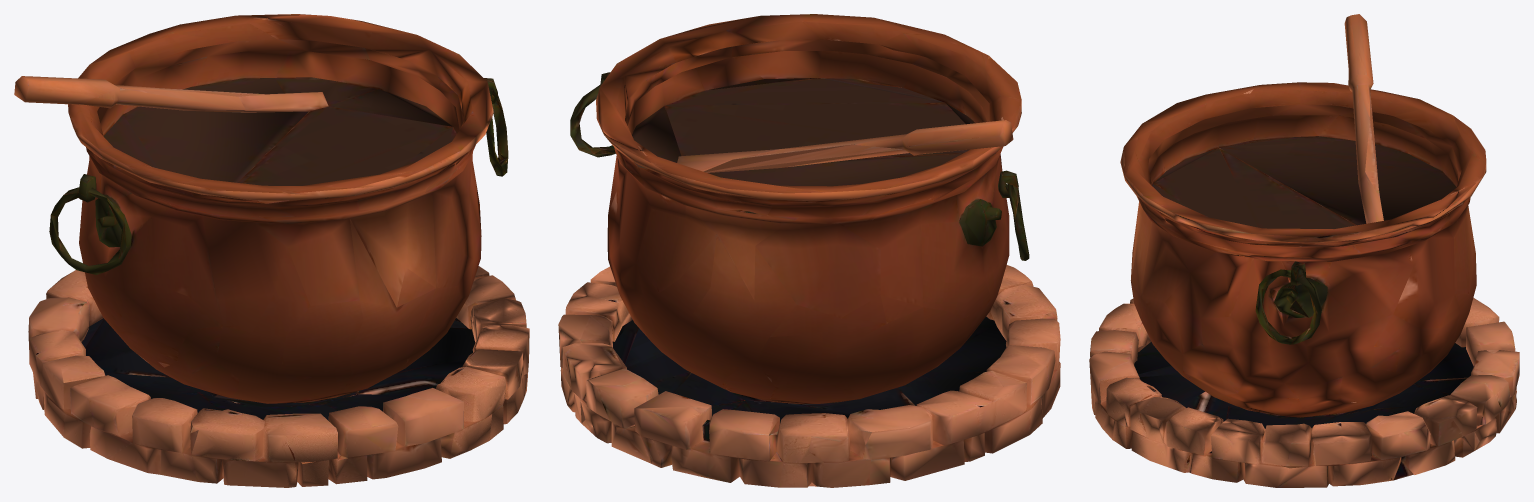
Rendered from la_degh.glb.
3 renders of one model, left to right at view 1: azimuth 30°, elevation 25°; view 2: azimuth 150°, elevation 25°; view 3: azimuth 270°, elevation 25°, orthographic. The views are drawn at different scales.
Visible parts, largest first — view 1: la_degh; view 2: la_degh; view 3: la_degh.
Boxes of the visible parts, box(x1,y1,x2,y2) form: la_degh: box(14, 14, 529, 487); la_degh: box(558, 14, 1060, 487); la_degh: box(1089, 14, 1519, 487).
Bounding box in the file's own units: 1 × 0.6997 × 0.939.
1 material, 1 textured.
